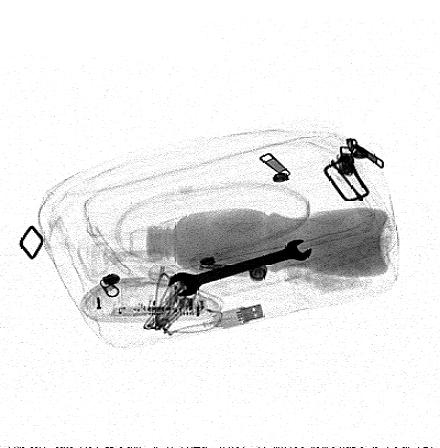Wrench: (166, 239, 313, 298)
